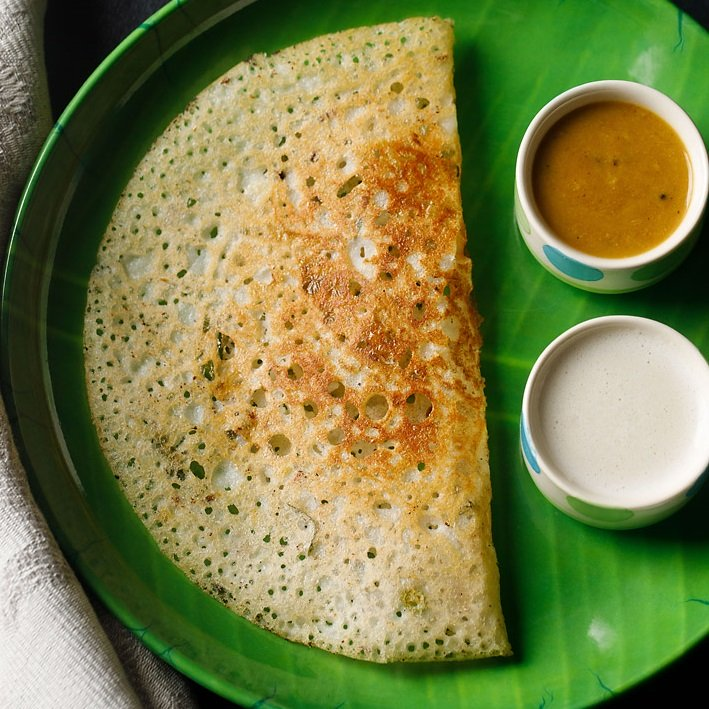dosa: (77, 15, 552, 690)
